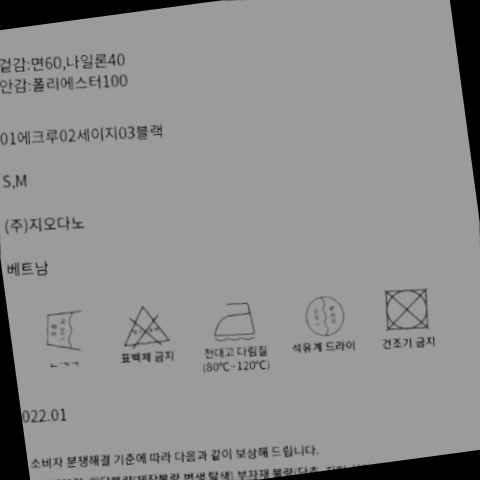30C: (38, 301, 94, 358)
DN_tumble_dry: (374, 281, 439, 337)
dry_clean_petrol_only: (299, 284, 358, 342)
iron: (204, 290, 264, 346)
non_chlorine_bleach: (115, 293, 180, 354)
